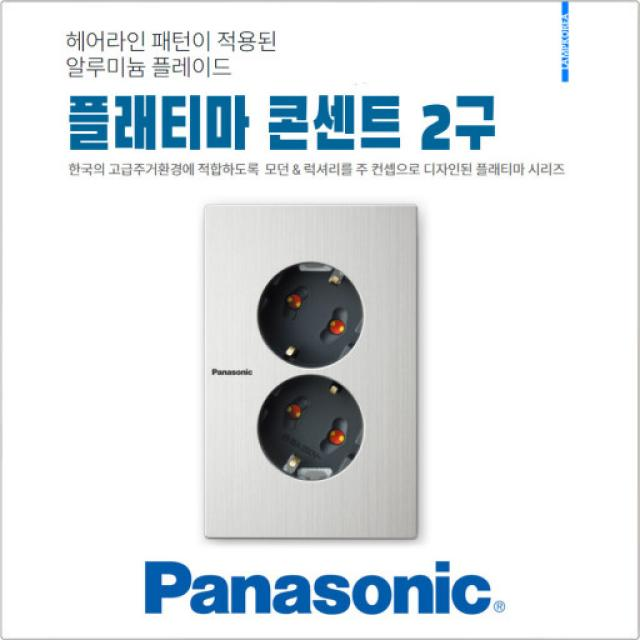typeb: (175, 190, 437, 555)
